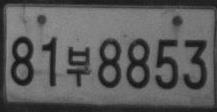1: (39, 36, 64, 86)
3: (183, 38, 208, 89)
5: (154, 38, 179, 90)
8: (96, 37, 122, 89), (125, 37, 151, 89), (10, 35, 34, 86)
부: (67, 45, 91, 87)
